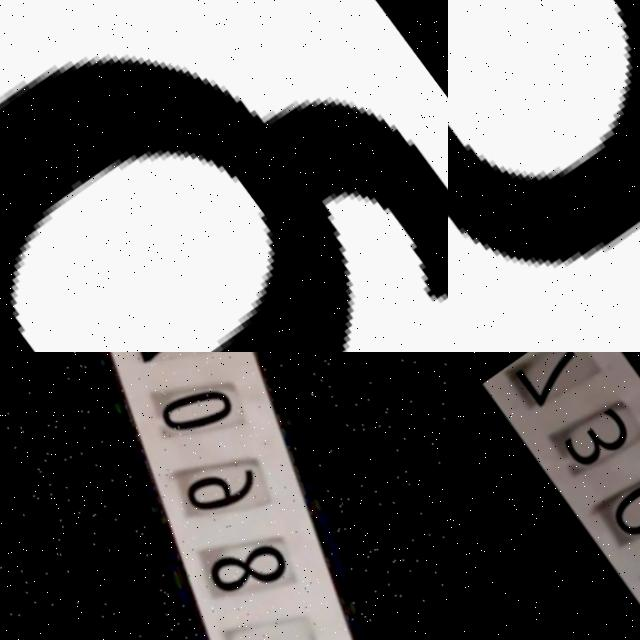0: (132, 352, 252, 463), (592, 451, 640, 549)
1: (202, 570, 332, 640)
3: (546, 383, 639, 479)
5: (448, 0, 640, 352)
7: (499, 352, 597, 416), (106, 352, 232, 392)
8: (179, 488, 312, 629)
9: (158, 416, 278, 543)
Q: (0, 0, 448, 352)
